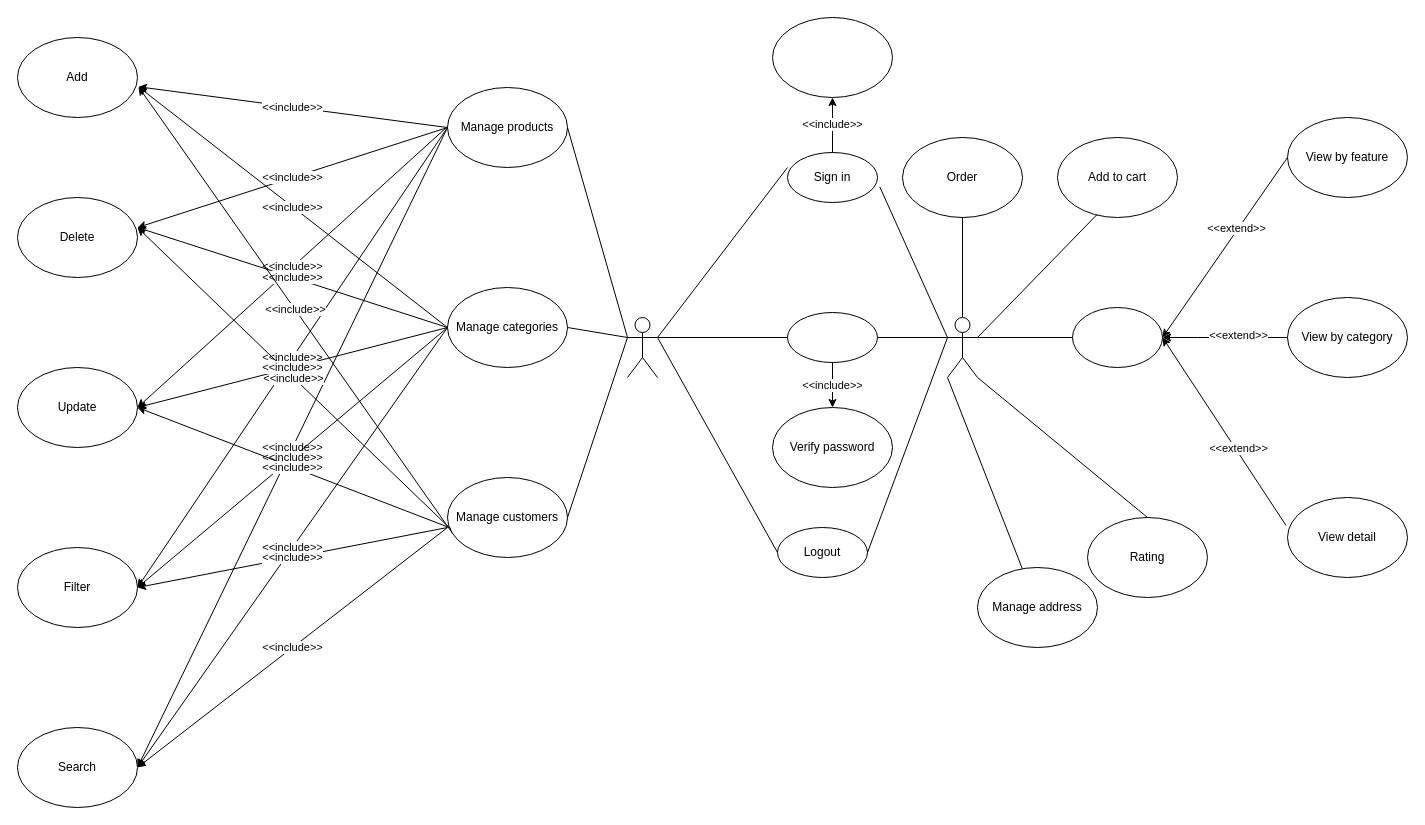
The diagram is 1425 pixels wide and 825 high, and some of its shapes have lost their labels. The shapes that lost their labels are listed below. From the top down, each one's centre as x and y in pixels, then its label:
At (x=832, y=57): "Forgot password".
At (x=642, y=347): "ADMIN".
At (x=832, y=337): "Sign up".
At (x=962, y=347): "CLIENT".
At (x=1117, y=337): "View products".
